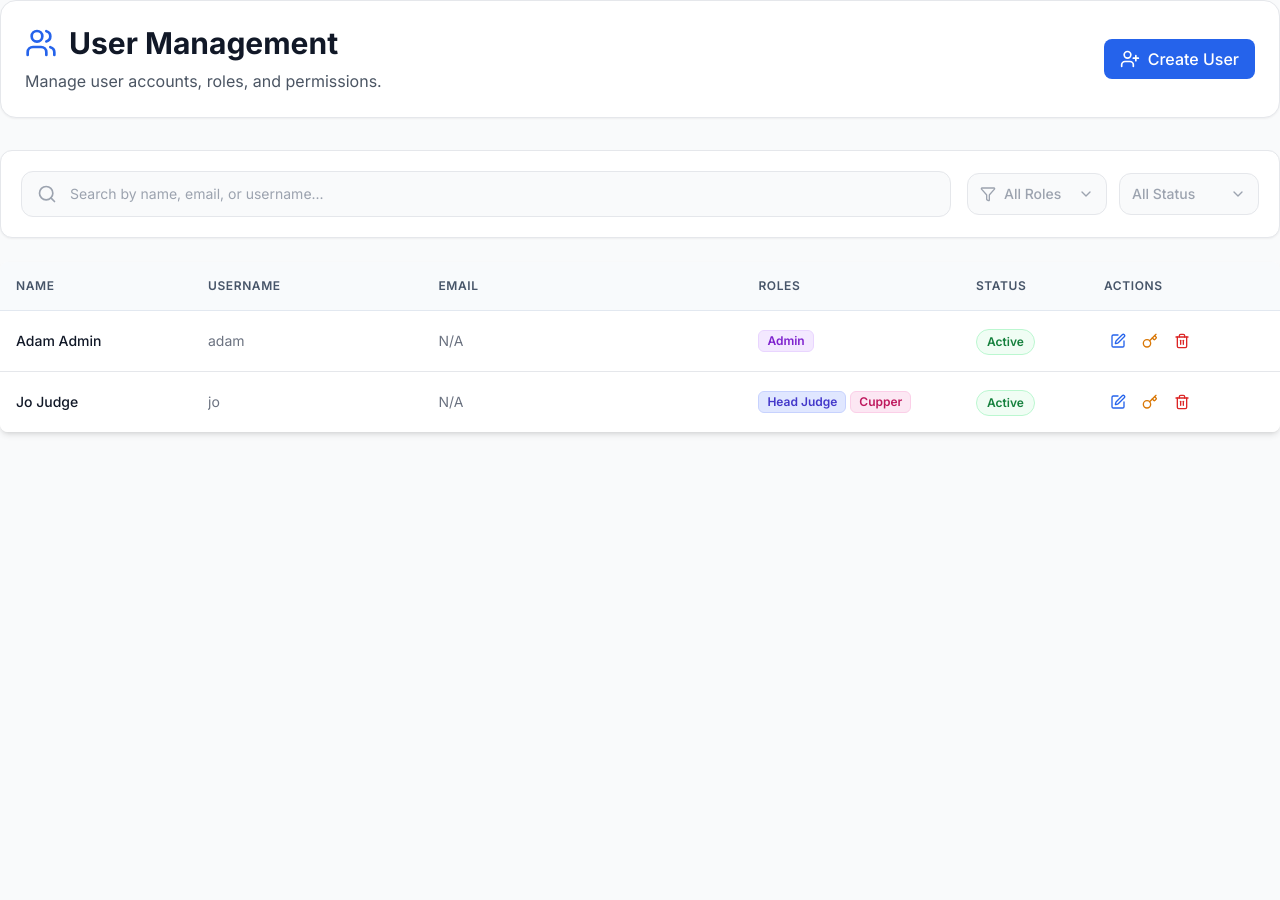
Test: User Management delete › shows a refusal inside the popup
Click the button named "Delete user" in the row of "Jo Judge".
click(1182, 402)  # box [1168,388,1196,416]
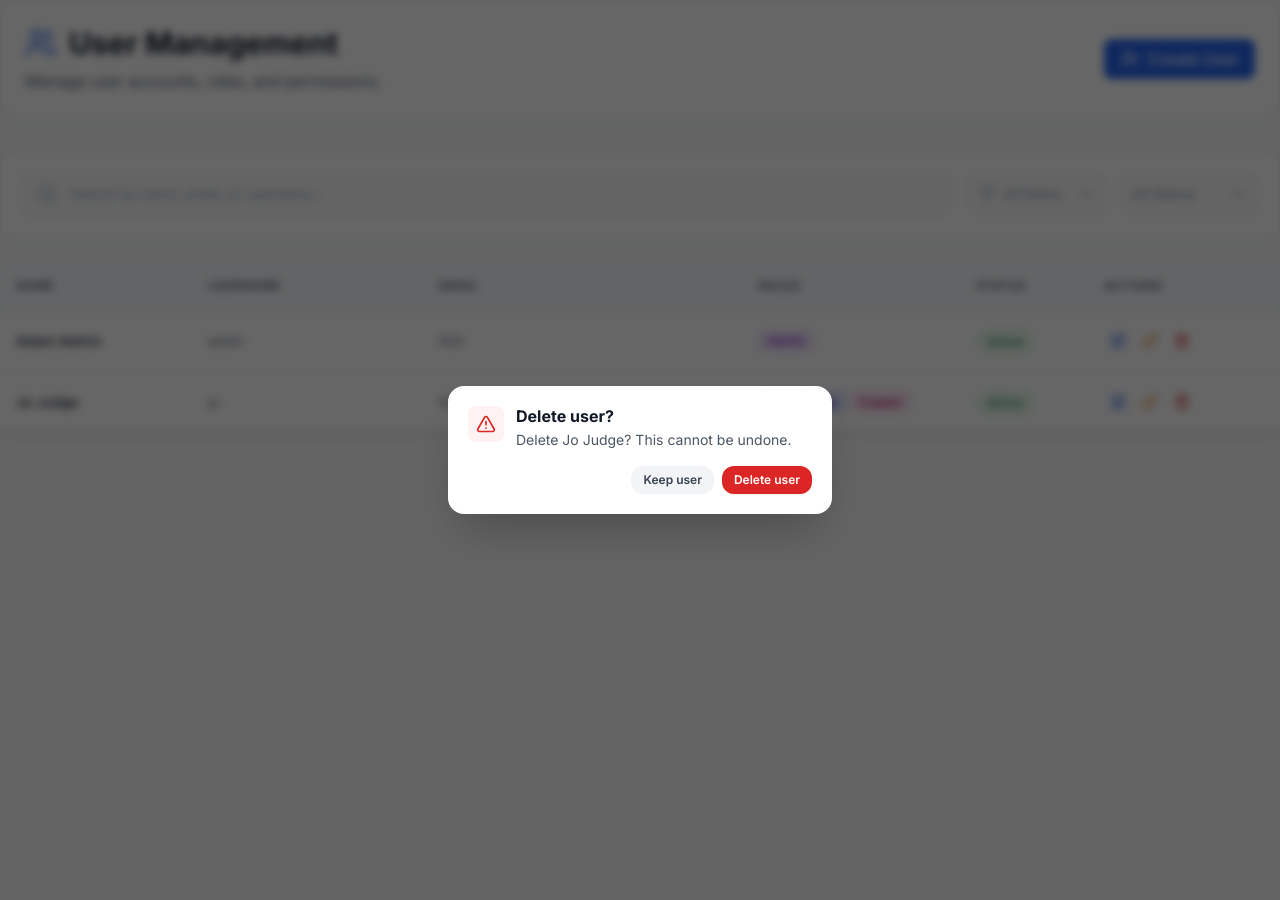
Click the button "Delete user".
click(767, 480)  # box [722,466,812,494]
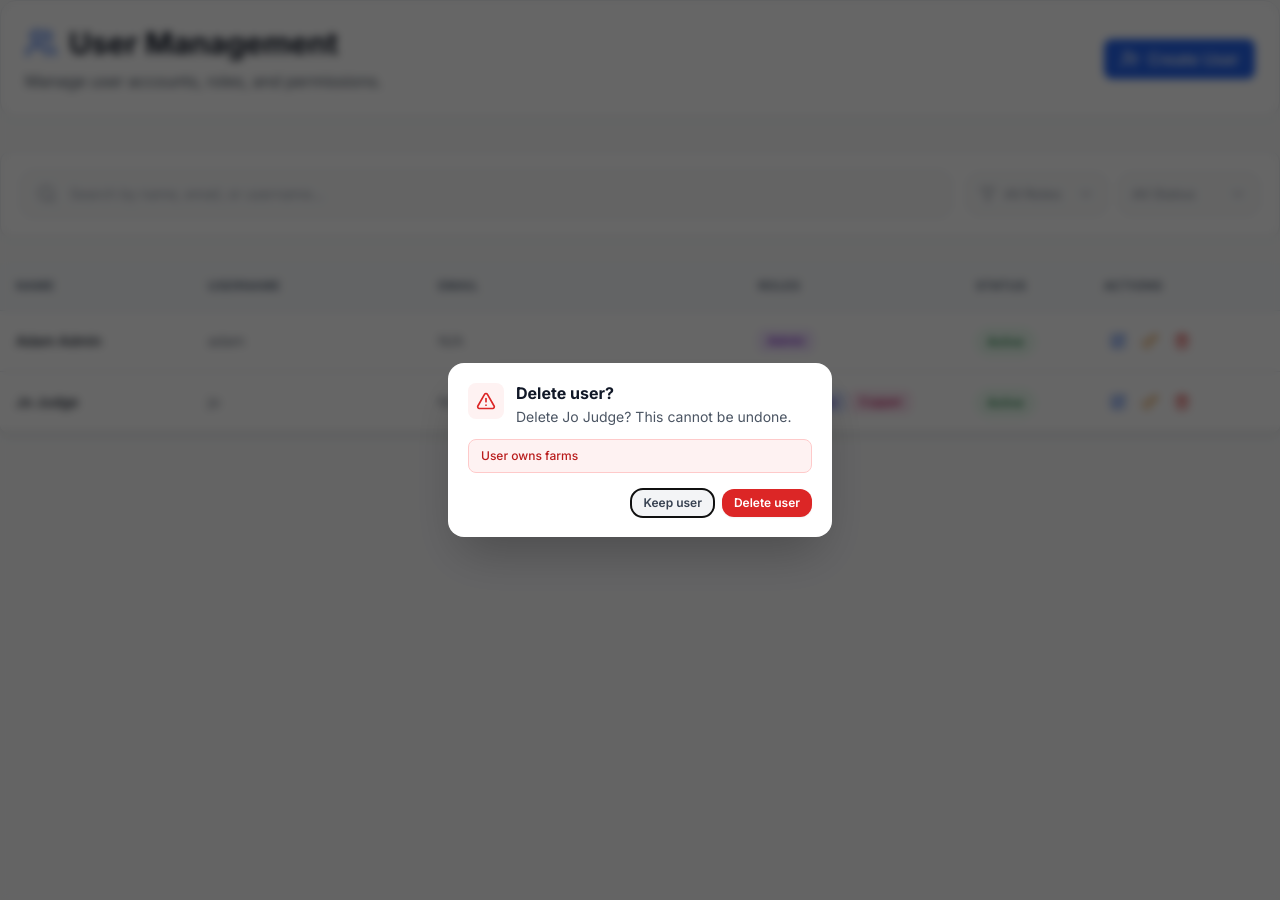
Check: the text "Jo Judge" is shown, box [16,392,78,412]
Check: the message reads "User owns farms", box [481,448,578,463]
